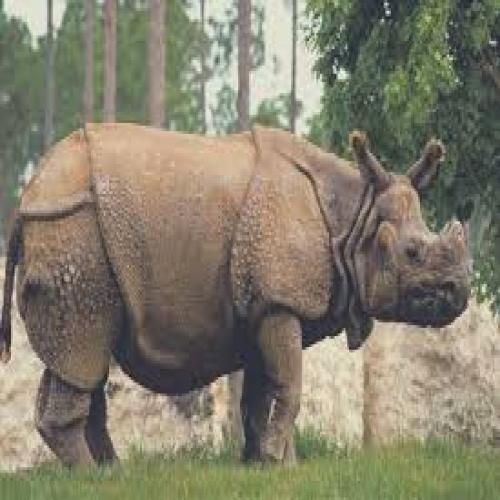rhino-endangered: (0, 120, 472, 472)
